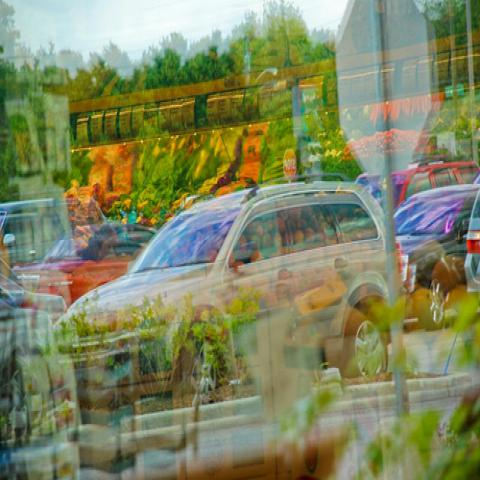car: (51, 175, 405, 403), (395, 180, 479, 332), (10, 226, 155, 303), (364, 160, 478, 233), (2, 256, 64, 335), (462, 187, 479, 295)
truck: (0, 196, 104, 280)
